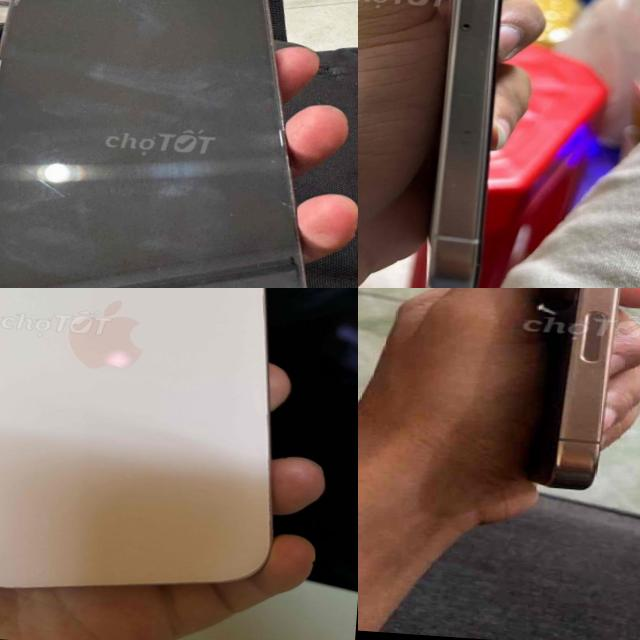gen_12_13: (0, 0, 335, 288)
gen_15: (0, 288, 329, 598), (389, 0, 581, 288)
gen_16: (483, 288, 640, 494)
physical_damage: (0, 140, 317, 288), (0, 0, 47, 20)
scratch: (461, 0, 498, 60), (451, 86, 486, 100), (459, 122, 476, 146), (446, 177, 462, 188)
